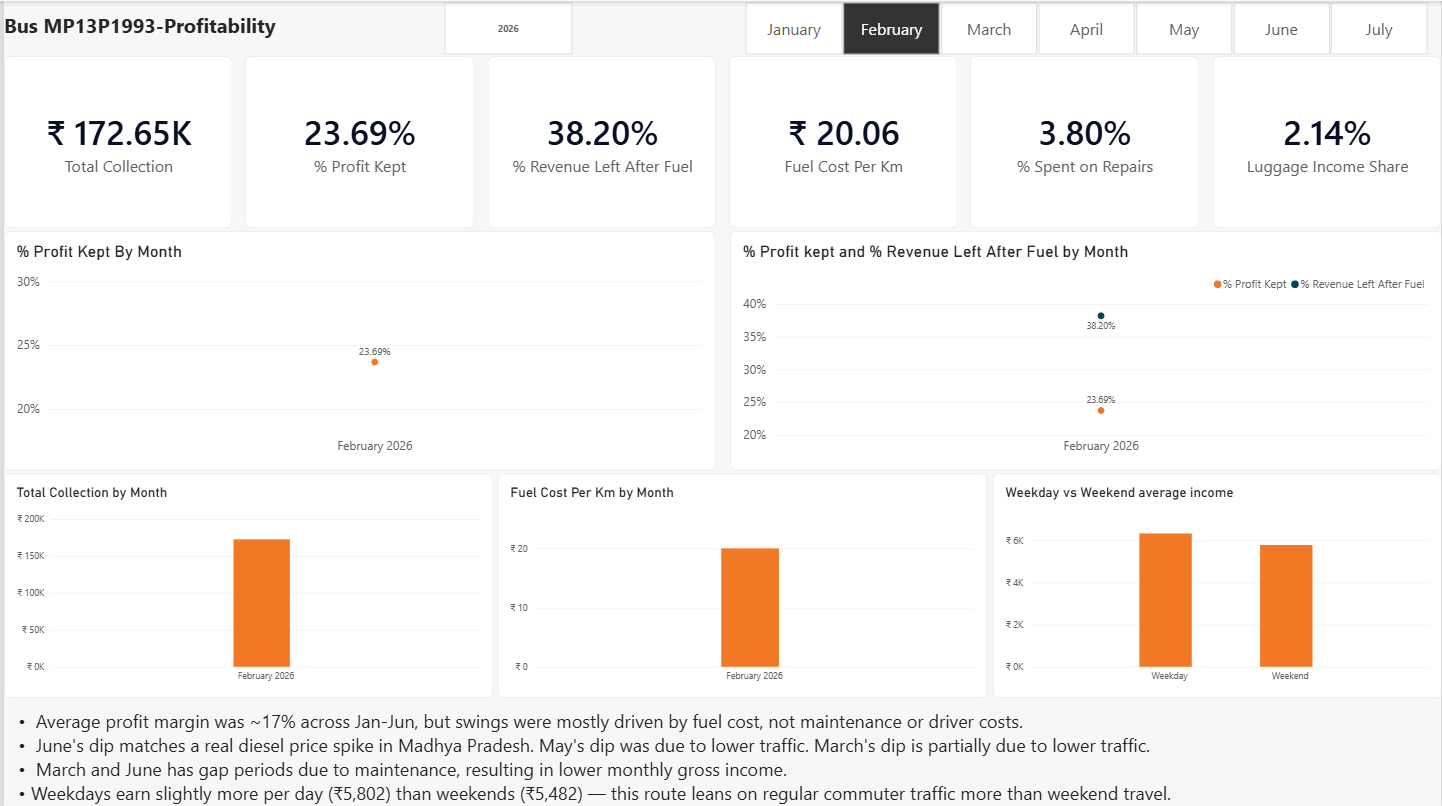

What the dashboard file says about the page in this screenshot:
{"tool":"powerbi","page":{"name":"Page 1","canvas":[1920,1080],"ordinal":0},"visuals":[{"type":"cardVisual","fields":{"Data":["_Measures.Gross_Income"]},"box":[0,73.6,305,230],"z":0},{"type":"cardVisual","fields":{"Data":["_Measures.Net_Profit_Margin"]},"box":[322.9,73.6,305,230],"z":1000},{"type":"cardVisual","fields":{"Data":["_Measures.Gross_Margin_Ex_Fuel"]},"box":[645.8,73.6,305,230],"z":2000},{"type":"cardVisual","fields":{"Data":["_Measures.Fuel_Cost_Per_Km"]},"box":[968.7,73.6,305,230],"z":3000},{"type":"cardVisual","fields":{"Data":["_Measures.Maintenance_Exp_Share"]},"box":[1291.6,73.6,305,230],"z":4000},{"type":"cardVisual","fields":{"Data":["_Measures.Luggage_Revenue_Share"]},"box":[1614.5,73.6,305,230],"z":5000},{"type":"lineChart","title":"% Profit Kept By Month","fields":{"Category":["Calendar.MonthYear"],"Y":["_Measures.Net_Profit_Margin"]},"box":[0,307,950,320],"z":6000},{"type":"lineChart","title":"% Profit kept and % Revenue Left After Fuel by Month","fields":{"Category":["Calendar.MonthYear"],"Y":["_Measures.Net_Profit_Margin","_Measures.Gross_Margin_Ex_Fuel"]},"box":[969.5,307,950,320],"z":7000},{"type":"clusteredColumnChart","title":"Total Collection by Month","fields":{"Category":["Calendar.MonthYear"],"Y":["_Measures.Gross_Income"]},"box":[0,632,653.3,300],"z":8000},{"type":"clusteredColumnChart","title":"Fuel Cost Per Km by Month","fields":{"Category":["Calendar.MonthYear"],"Y":["_Measures.Fuel_Cost_Per_Km"]},"box":[660,632,653.3,300],"z":9000},{"type":"clusteredColumnChart","title":"Weekday vs Weekend average income","fields":{"Category":["Calendar.IsWeekend"],"Y":["_Measures.Avg_Daily_Gross_Income"]},"box":[1320,632,600,300],"z":10000},{"type":"textbox","box":[0,13,1919.6,60.6],"z":11000},{"type":"slicer","fields":{"Values":["Calendar.Month Name"]},"box":[969.5,0,950.1,73.6],"z":12000},{"type":"slicer","fields":{"Values":["Calendar.Year"]},"box":[567,0,209.9,73.6],"z":13000},{"type":"textbox","box":[0,944.6,1920.1,135.7],"z":14000}]}

Visuals, with their boxes in screenshot pixels (x1, y1, x2, y2), scaled from the page's 1920x1080 canvas onto the 1442x806 screenshot:
cardVisual - _Measures.Gross_Income: select_region(0, 55, 229, 227)
cardVisual - _Measures.Net_Profit_Margin: select_region(243, 55, 472, 227)
cardVisual - _Measures.Gross_Margin_Ex_Fuel: select_region(485, 55, 714, 227)
cardVisual - _Measures.Fuel_Cost_Per_Km: select_region(728, 55, 957, 227)
cardVisual - _Measures.Maintenance_Exp_Share: select_region(970, 55, 1199, 227)
cardVisual - _Measures.Luggage_Revenue_Share: select_region(1213, 55, 1441, 227)
"% Profit Kept By Month" lineChart: select_region(0, 229, 713, 468)
"% Profit kept and % Revenue Left After Fuel by Month" lineChart: select_region(728, 229, 1441, 468)
"Total Collection by Month" clusteredColumnChart: select_region(0, 472, 491, 696)
"Fuel Cost Per Km by Month" clusteredColumnChart: select_region(496, 472, 986, 696)
"Weekday vs Weekend average income" clusteredColumnChart: select_region(991, 472, 1441, 696)
textbox: select_region(0, 10, 1441, 55)
slicer - Calendar.Month Name: select_region(728, 0, 1441, 55)
slicer - Calendar.Year: select_region(426, 0, 583, 55)
textbox: select_region(0, 705, 1441, 805)
